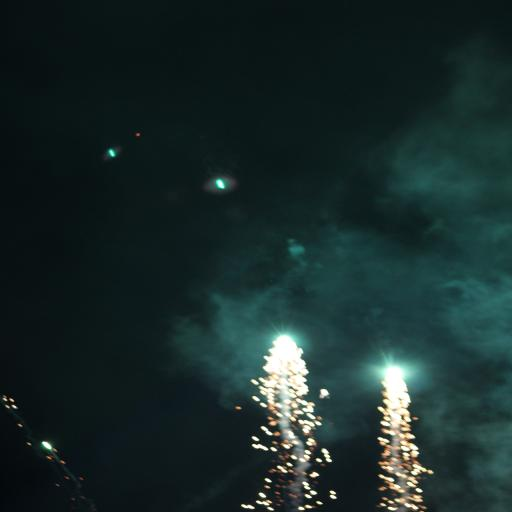la: (80, 163, 88, 171)
